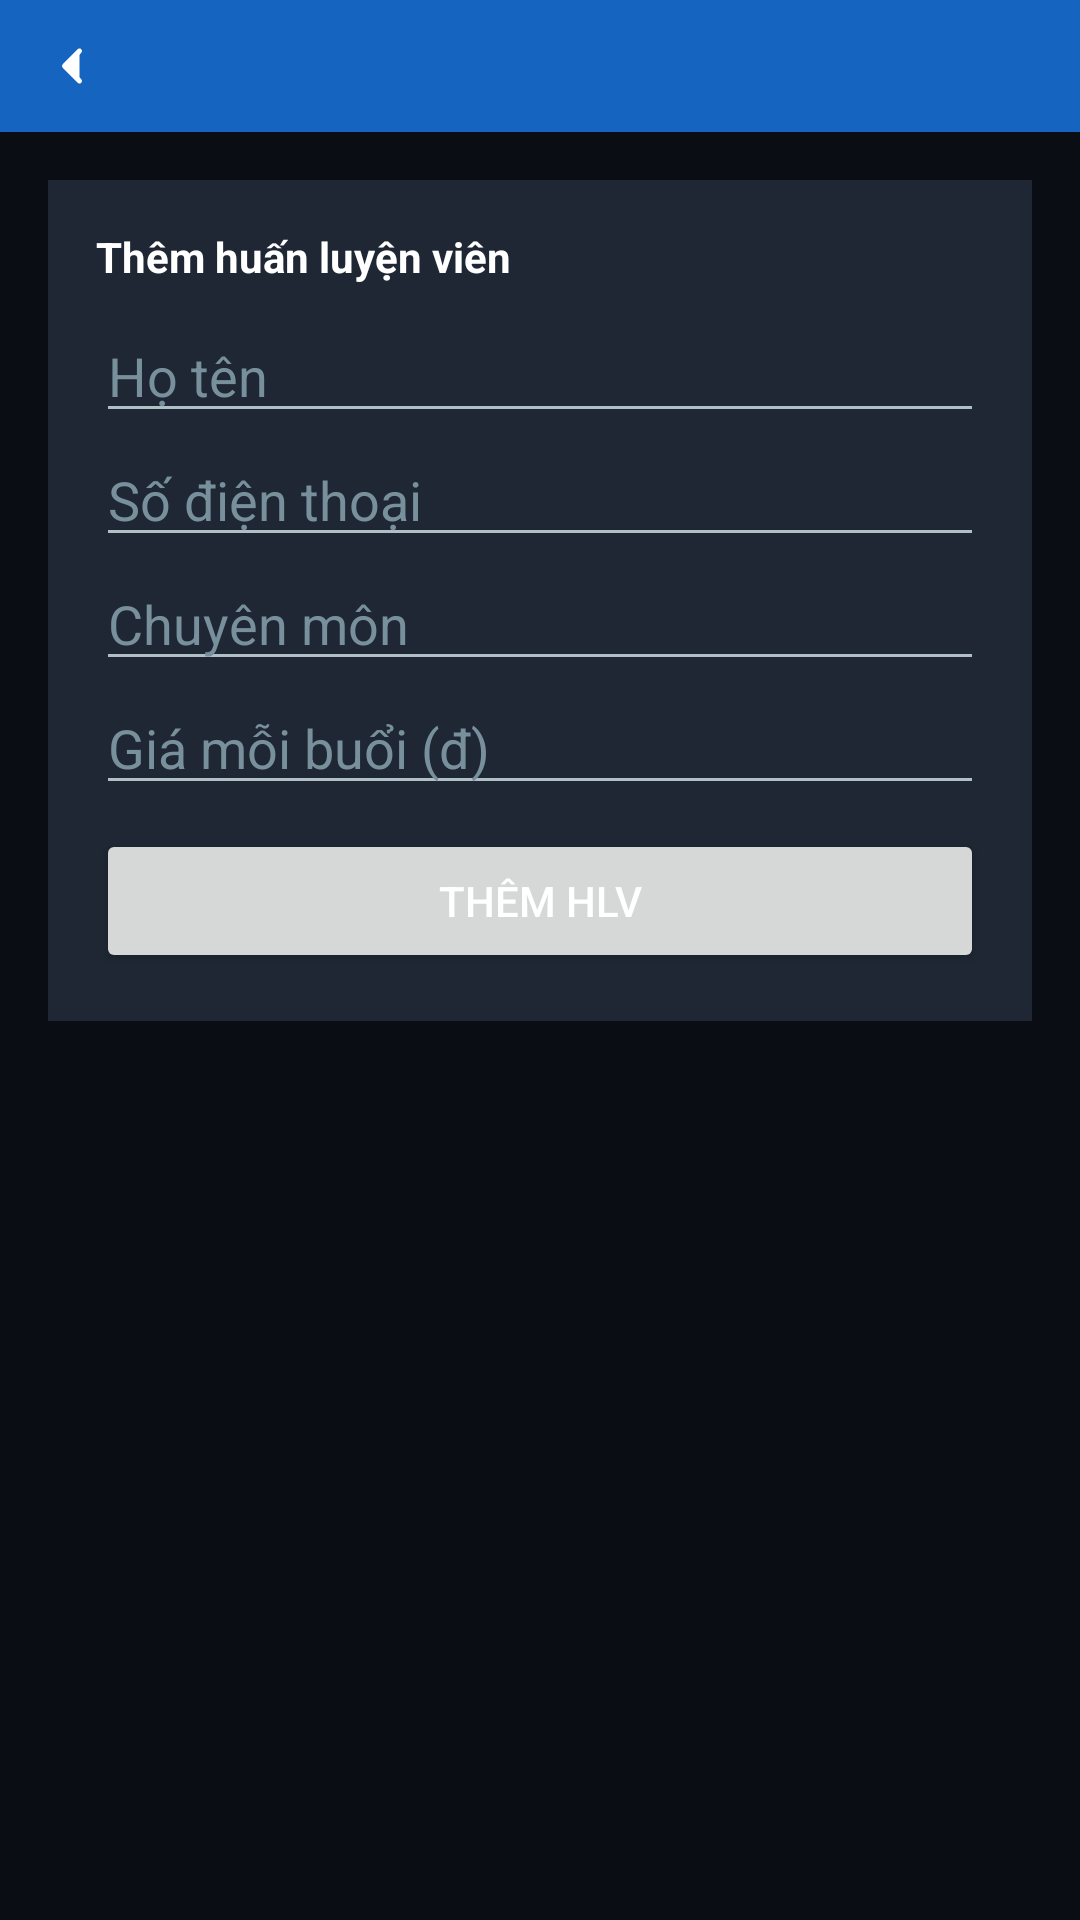

Icon click points for this 1080*1920 phone screenshot, format [x,y]:
Quay lại: [72,66]
